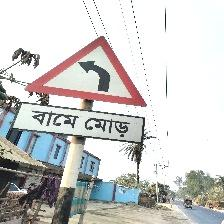Left-Turn: (10, 36, 149, 146)
